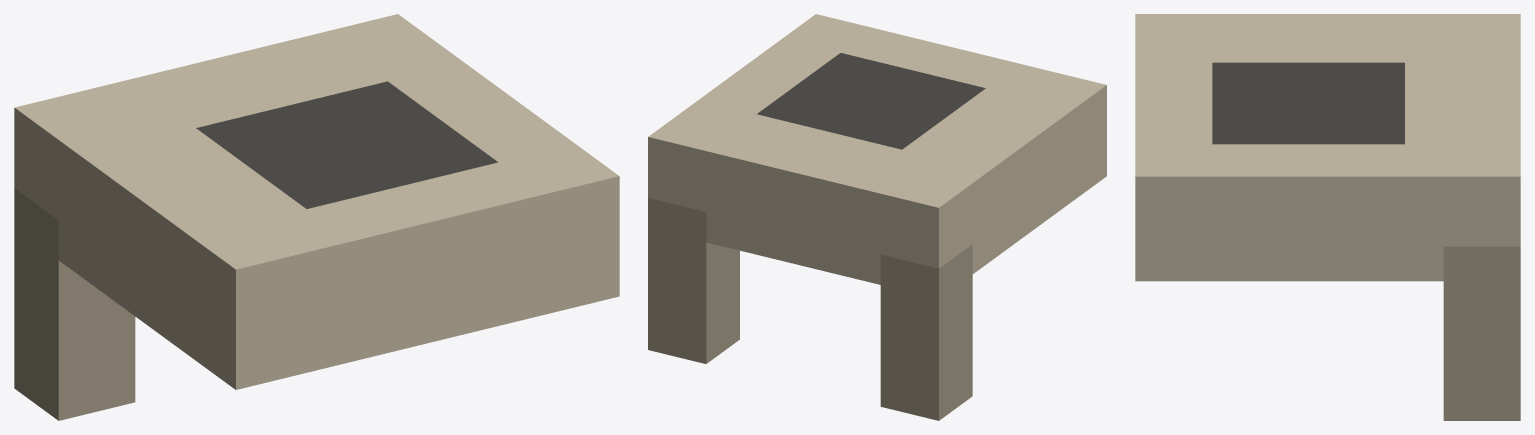
File: asiento_letrina_chopo_01.glb
3 views of the same model, side by side, from view 1: azimuth 30°, elevation 25°; view 2: azimuth 150°, elevation 25°; view 3: azimuth 270°, elevation 25° (orthographic). The views are drawn at different scales.
Visible parts, largest first — view 1: asiento_letrina_chopo; view 2: asiento_letrina_chopo; view 3: asiento_letrina_chopo.
Boxes of the visible parts, <box> form: asiento_letrina_chopo: <box>14,14,619,420</box>; asiento_letrina_chopo: <box>648,14,1106,420</box>; asiento_letrina_chopo: <box>1135,14,1520,420</box>.
Size of the model in its own units: 0.7143 by 0.5 by 0.7143.
